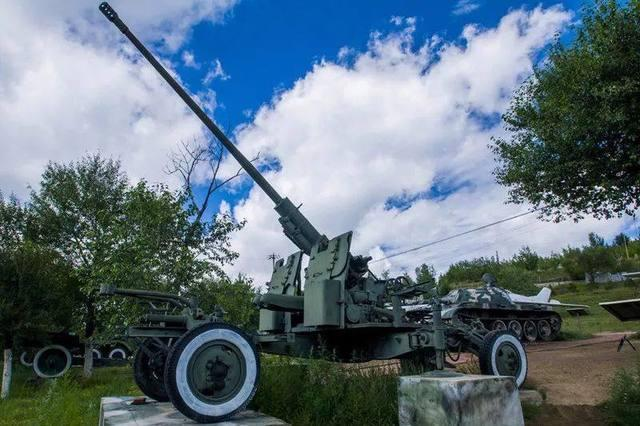MIL_SPG: (100, 2, 474, 422), (471, 330, 528, 384)
